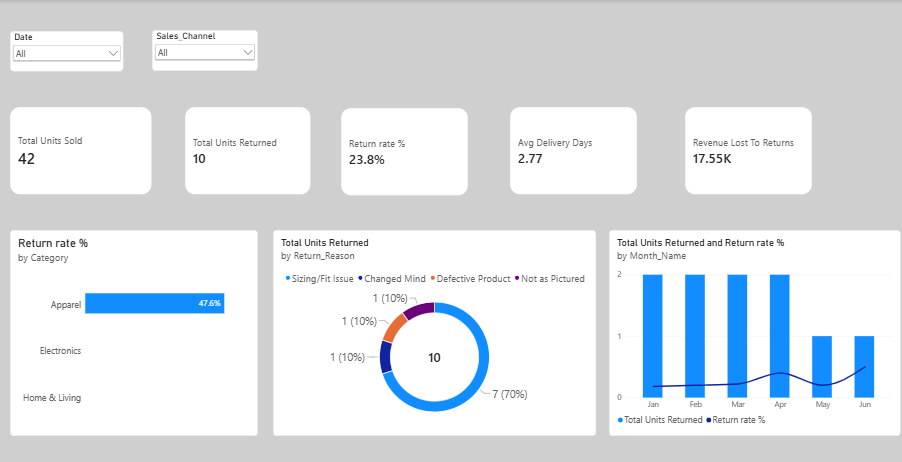

The dashboard page shown, as its layout file describes it:
{"tool":"powerbi","page":{"name":"Logistics & Returns","canvas":[1920,1080],"ordinal":2},"visuals":[{"type":"slicer","fields":{"Values":["dim_date.Date"]},"box":[25.5,65.9,240.6,86.2],"z":0},{"type":"slicer","fields":{"Values":["fact_orders.Sales_Channel"]},"box":[327.4,63.8,225.4,87.2],"z":1000},{"type":"cardVisual","fields":{"Data":["Measures (2).Total Units Sold"]},"box":[25,227,301.8,186.1],"z":2000},{"type":"cardVisual","fields":{"Data":["Measures (2).Total Units Returned"]},"box":[397.6,227.5,267.8,186.1],"z":3000},{"type":"cardVisual","fields":{"Data":["Measures (2).Return rate %"]},"box":[729.2,229.6,270.1,186.1],"z":4000},{"type":"cardVisual","fields":{"Data":["Measures (2).Avg Delivery Days"]},"box":[1088.5,227.5,270.1,186.1],"z":5000},{"type":"clusteredBarChart","fields":{"Category":["dimProducts.Category"],"Y":["Measures (2).Return rate %"]},"box":[25.5,489,526.5,438],"z":6000},{"type":"donutChart","fields":{"Category":["fact_returns.Return_Reason"],"Y":["Measures (2).Total Units Returned"]},"box":[584.6,489,686.7,438],"z":7000},{"type":"lineClusteredColumnComboChart","fields":{"Category":["dim_date.Month_Name"],"Y":["Measures (2).Total Units Returned"],"Y2":["Measures (2).Return rate %"]},"box":[1299,489,620,438],"z":8000},{"type":"cardVisual","fields":{"Data":["Measures (2).Revenue Lost To Returns"]},"box":[1460.6,227.5,270.1,186.1],"z":9000}]}

Visuals, with their boxes on the page's 1920x1080 design canvas (x1, y1, x2, y2). These are canvas units, not pixel positions in the 902x462 screenshot, which may show the page scaled, cropped or inside an application window:
slicer - dim_date.Date: [left=26, top=66, right=266, bottom=152]
slicer - fact_orders.Sales_Channel: [left=327, top=64, right=553, bottom=151]
cardVisual - Measures (2).Total Units Sold: [left=25, top=227, right=327, bottom=413]
cardVisual - Measures (2).Total Units Returned: [left=398, top=228, right=665, bottom=414]
cardVisual - Measures (2).Return rate %: [left=729, top=230, right=999, bottom=416]
cardVisual - Measures (2).Avg Delivery Days: [left=1088, top=228, right=1359, bottom=414]
clusteredBarChart - dimProducts.Category x Measures (2).Return rate %: [left=26, top=489, right=552, bottom=927]
donutChart - fact_returns.Return_Reason x Measures (2).Total Units Returned: [left=585, top=489, right=1271, bottom=927]
lineClusteredColumnComboChart - dim_date.Month_Name x Measures (2).Total Units Returned: [left=1299, top=489, right=1919, bottom=927]
cardVisual - Measures (2).Revenue Lost To Returns: [left=1461, top=228, right=1731, bottom=414]
